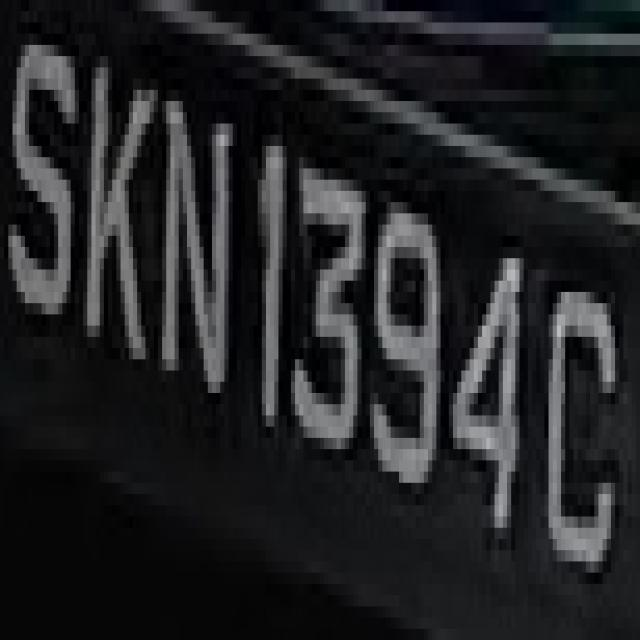1: (258, 79, 291, 472)
3: (295, 135, 366, 483)
4: (436, 157, 528, 595)
9: (362, 135, 444, 539)
C: (540, 236, 619, 595)
K: (79, 11, 158, 393)
N: (162, 67, 237, 427)
S: (0, 22, 83, 326)
